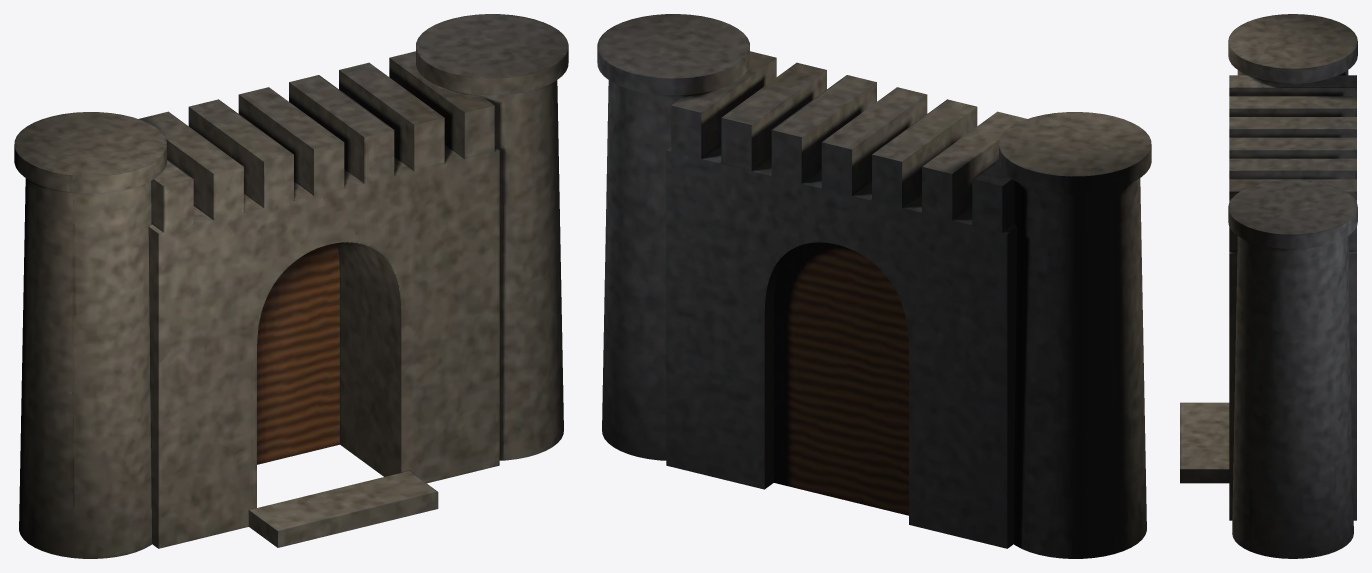
The model's file is fort-gateway.glb.
The picture shows the model from 3 angles, left to right: view 1: azimuth 30°, elevation 25°; view 2: azimuth 150°, elevation 25°; view 3: azimuth 270°, elevation 25°; orthographic projection. The views are drawn at different scales.
Visible parts, largest first — view 1: fort-gateway; view 2: fort-gateway; view 3: fort-gateway.
Part boxes in pixels (x1,y1,x2,y2): fort-gateway: [14, 14, 568, 558]; fort-gateway: [597, 14, 1151, 558]; fort-gateway: [1180, 14, 1357, 558].
Bounding box in the file's own units: 5.32 × 3.66 × 1.81.
1 material, 1 textured.
